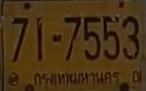1: (36, 16, 42, 60)
3: (121, 15, 139, 59)
5: (102, 15, 119, 59), (83, 17, 100, 60)
7: (63, 16, 80, 60), (12, 17, 28, 61)
BKK: (29, 68, 121, 86)
